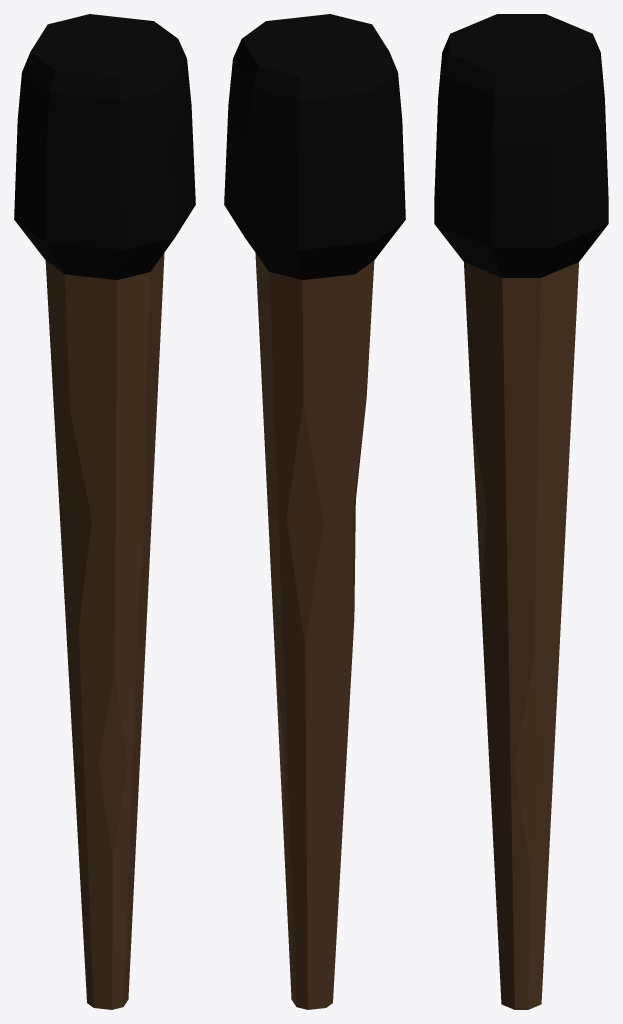
The model's file is Torch_var_04.fbx.
The picture shows the model from 3 angles, left to right: view 1: azimuth 30°, elevation 25°; view 2: azimuth 150°, elevation 25°; view 3: azimuth 270°, elevation 25°; orthographic projection.
Visible parts, largest first — view 1: Torch_var_04; view 2: Torch_var_04; view 3: Torch_var_04.
Boxes of the visible parts, x1,y1,x2,y2 form: Torch_var_04: (14, 14, 195, 1009); Torch_var_04: (224, 14, 405, 1009); Torch_var_04: (434, 14, 608, 1009).
Bounding box in the file's own units: 21.15 × 128 × 21.15.
